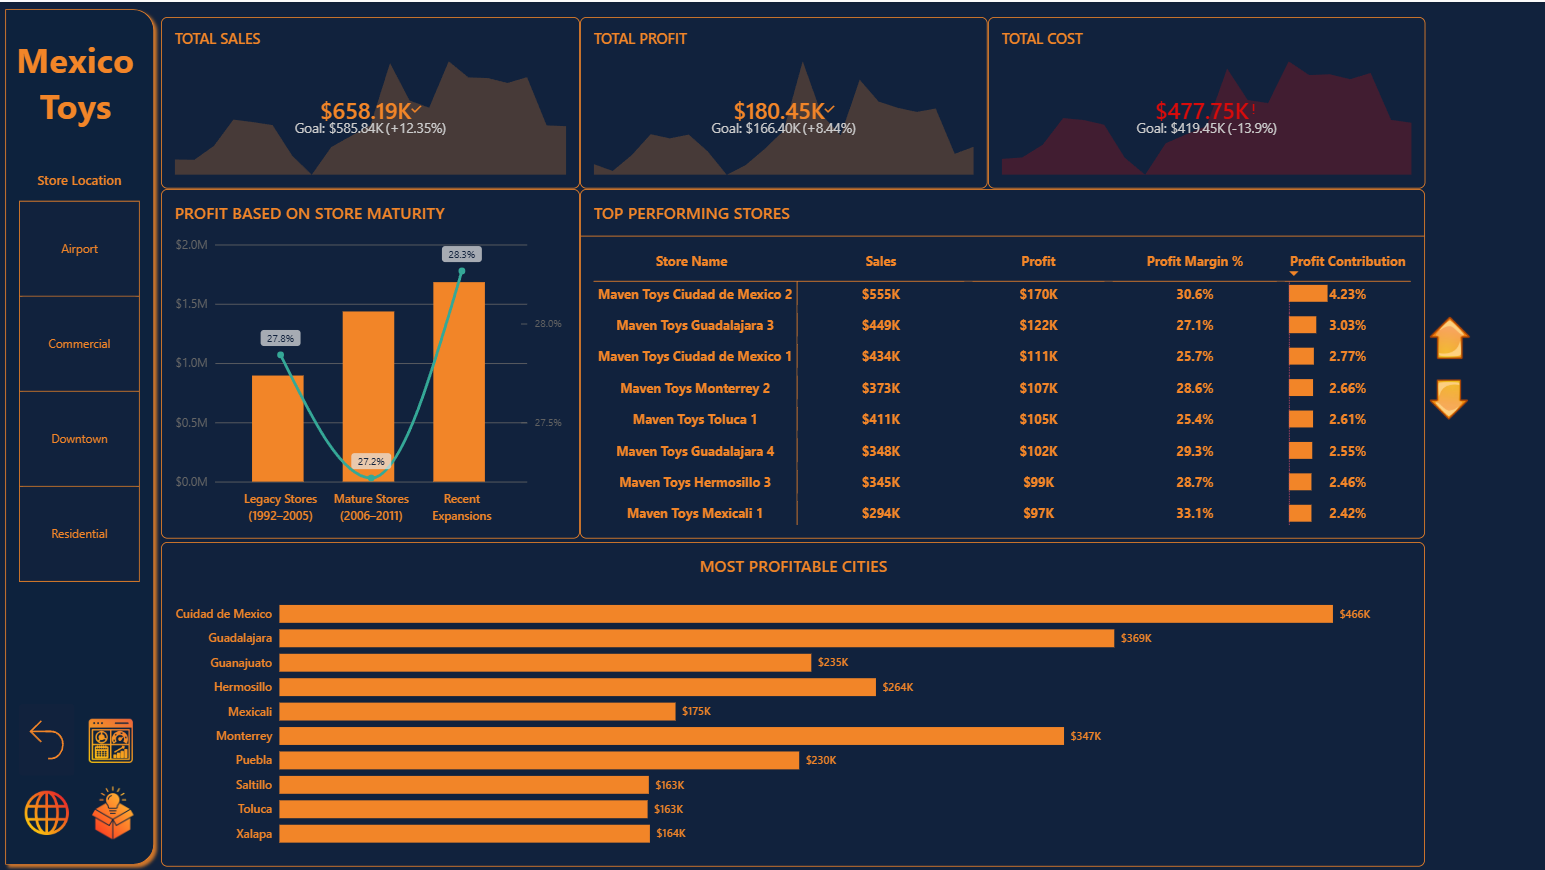

The page's visual inventory and layout, read from the dashboard file:
{"tool":"powerbi","page":{"name":"Stores Overview","canvas":[1920,1080],"ordinal":3},"visuals":[{"type":"shape","box":[0,0,202.9,1080],"z":0},{"type":"textbox","box":[21.1,42.1,150.1,138.3],"z":1000},{"type":"advancedSlicerVisual","title":"Store Location","fields":{"Values":["stores.Store_Location"]},"box":[26.3,209.4,150.1,513.7],"z":2000},{"type":"lineClusteredColumnComboChart","title":"PROFIT BASED ON STORE MATURITY","fields":{"Category":["stores.Store Open Year (groups)"],"Y":["Measures Table.Total Profit"],"Y2":["Measures Table.Profit Margin %"]},"box":[202.8,231.8,520,434.3],"z":3000},{"type":"kpi","title":"TOTAL SALES","fields":{"Goal":["Measures Table.Sales PY"],"Indicator":["Measures Table.Total Sales"],"TrendLine":["calendar.Start of month"]},"box":[202.9,18.6,520,212.9],"z":4000},{"type":"kpi","title":"TOTAL PROFIT","fields":{"Goal":["Measures Table.Profit PY"],"Indicator":["Measures Table.Total Profit"],"TrendLine":["calendar.Start of month"]},"box":[722.9,18.6,505.7,212.9],"z":5000},{"type":"kpi","title":"TOTAL COST","fields":{"Goal":["Measures Table.Cost PY"],"Indicator":["Measures Table.Total Cost"],"TrendLine":["calendar.Start of month"]},"box":[1228.6,18.6,542.9,212.9],"z":6000},{"type":"pivotTable","title":"TOP PERFORMING STORES","fields":{"Rows":["stores.Store_Name"],"Values":["Measures Table.Total Sales","Measures Table.Total Profit","Measures Table.Total Profit %","Measures Table.Profit Contribution Per Store"]},"box":[723.1,231.8,1048.6,434.3],"z":8000},{"type":"image","title":"Top Image","box":[1757.2,367.7,89.6,98.8],"z":9000},{"type":"image","title":"Bottom Image","box":[1757,443.9,89.6,98.8],"z":10000},{"type":"actionButton","title":"Filter reset stores","box":[26.3,871.9,69,89],"z":11000},{"type":"image","box":[105.8,873.1,69,89],"z":12001},{"type":"image","box":[108,961.5,69,89],"z":12002},{"type":"image","box":[26.3,961.5,69,89],"z":12003},{"type":"barChart","title":"MOST PROFITABLE CITIES","fields":{"Category":["stores.Store_City"],"Y":["Measures Table.Total Profit"]},"box":[202.8,670.4,1568.6,402.9],"z":12004}]}

Visuals, with their boxes in screenshot pixels (x1, y1, x2, y2), scaled from the page's 1920x1080 canvas onto the 1545x870 screenshot:
shape: region(0, 0, 163, 869)
textbox: region(17, 34, 138, 145)
"Store Location" advancedSlicerVisual: region(21, 169, 142, 582)
"PROFIT BASED ON STORE MATURITY" lineClusteredColumnComboChart: region(163, 187, 582, 537)
"TOTAL SALES" kpi: region(163, 15, 582, 186)
"TOTAL PROFIT" kpi: region(582, 15, 989, 186)
"TOTAL COST" kpi: region(989, 15, 1426, 186)
"TOP PERFORMING STORES" pivotTable: region(582, 187, 1426, 537)
"Top Image" image: region(1414, 296, 1486, 376)
"Bottom Image" image: region(1414, 358, 1486, 437)
"Filter reset stores" actionButton: region(21, 702, 77, 774)
image: region(85, 703, 141, 775)
image: region(87, 775, 142, 846)
image: region(21, 775, 77, 846)
"MOST PROFITABLE CITIES" barChart: region(163, 540, 1425, 865)
